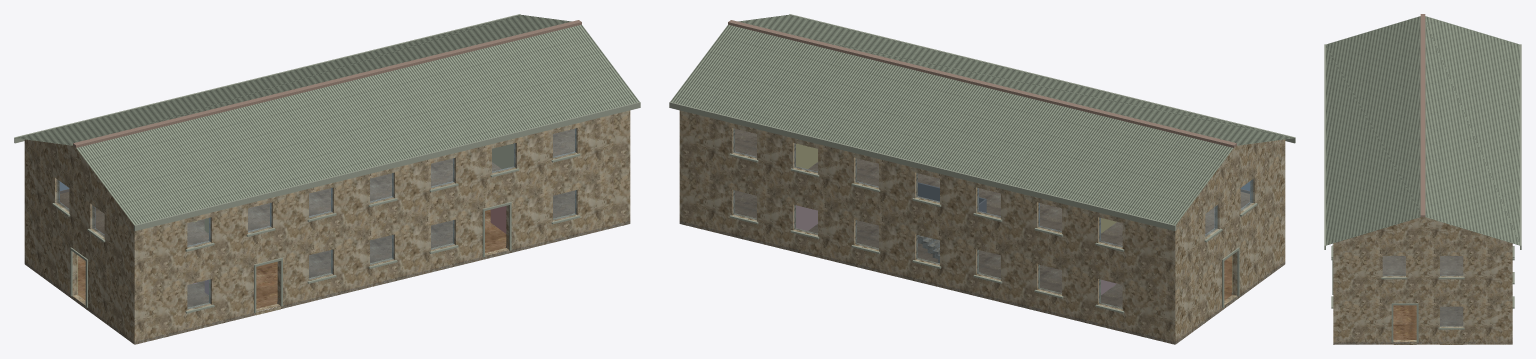
The model's file is barracks-2s.glass-v1.lod0.glb.
3 views of the same model, side by side, from view 1: azimuth 30°, elevation 25°; view 2: azimuth 150°, elevation 25°; view 3: azimuth 270°, elevation 25° (orthographic). The views are drawn at different scales.
Visible parts, largest first — view 1: barracks-2s; view 2: barracks-2s; view 3: barracks-2s.
Boxes of the visible parts, box(x1,y1,x2,y2) form: barracks-2s: box(14, 14, 640, 344); barracks-2s: box(669, 14, 1295, 344); barracks-2s: box(1324, 14, 1521, 344).
Bounding box in the file's own units: 26.54 × 8.1 × 10.98.
5 materials, 3 textured.
